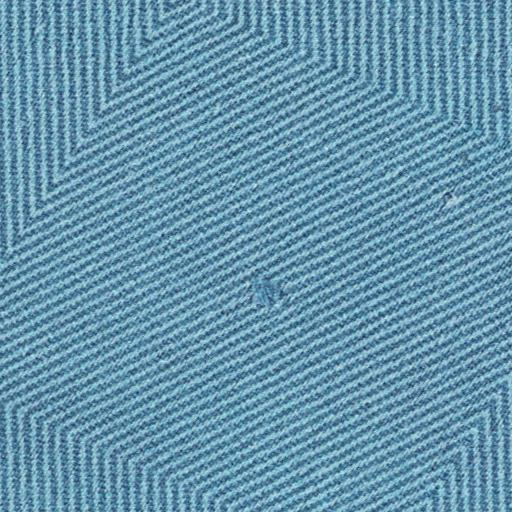knot: (240, 264, 300, 321)
